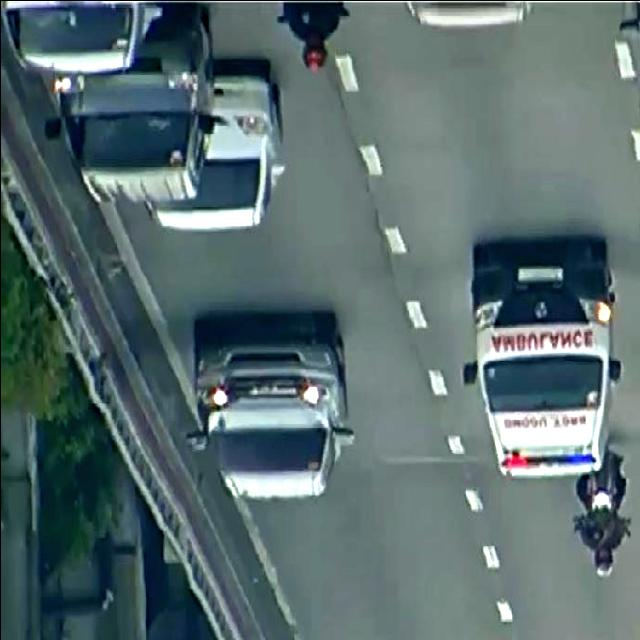emergency: (457, 228, 622, 475)
